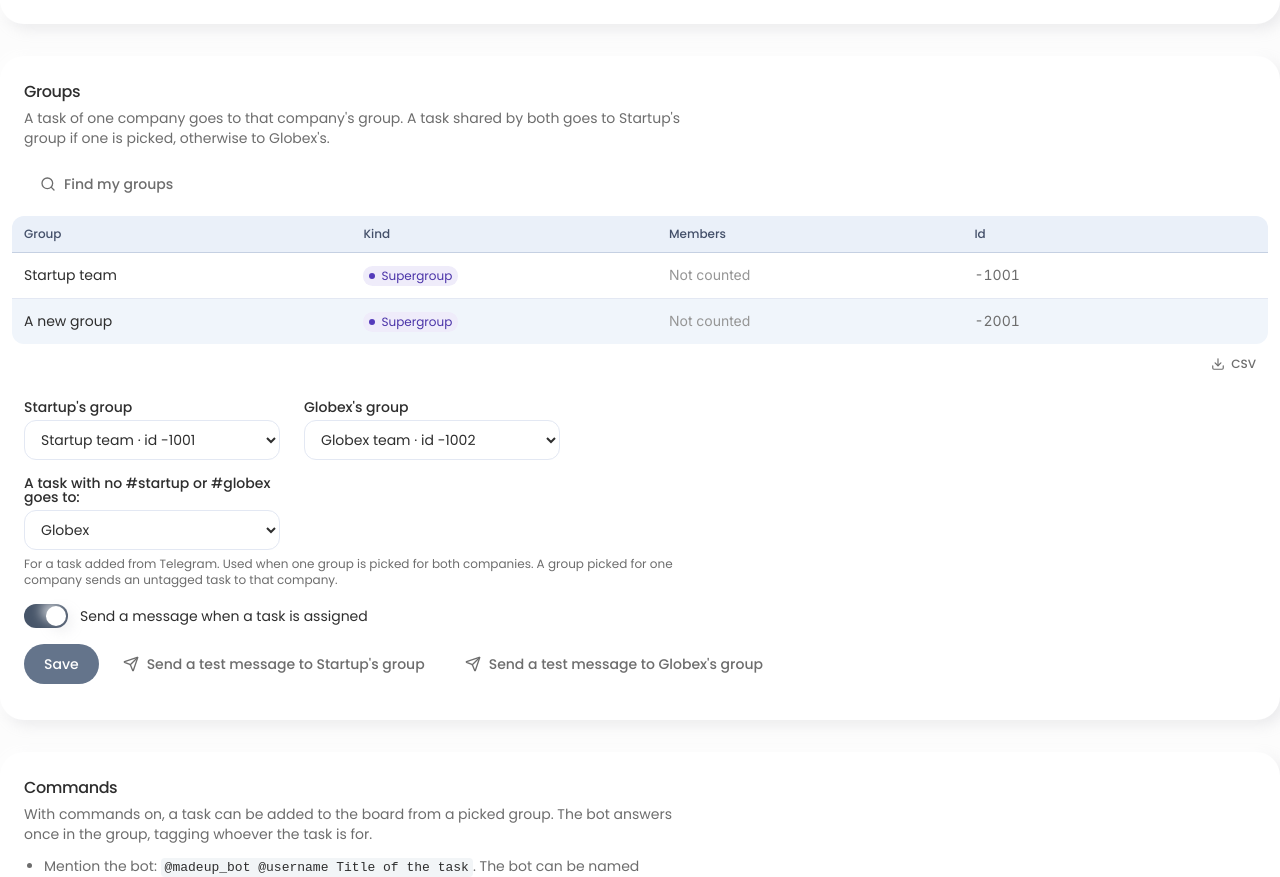
Scenario: the groups › a refused save is shown in the server's words and the choice is kept
(page scrolled)
Select "A new group · id -2001" in the dropdown labelled "Startup's group": (152, 440) [24, 420, 280, 460]
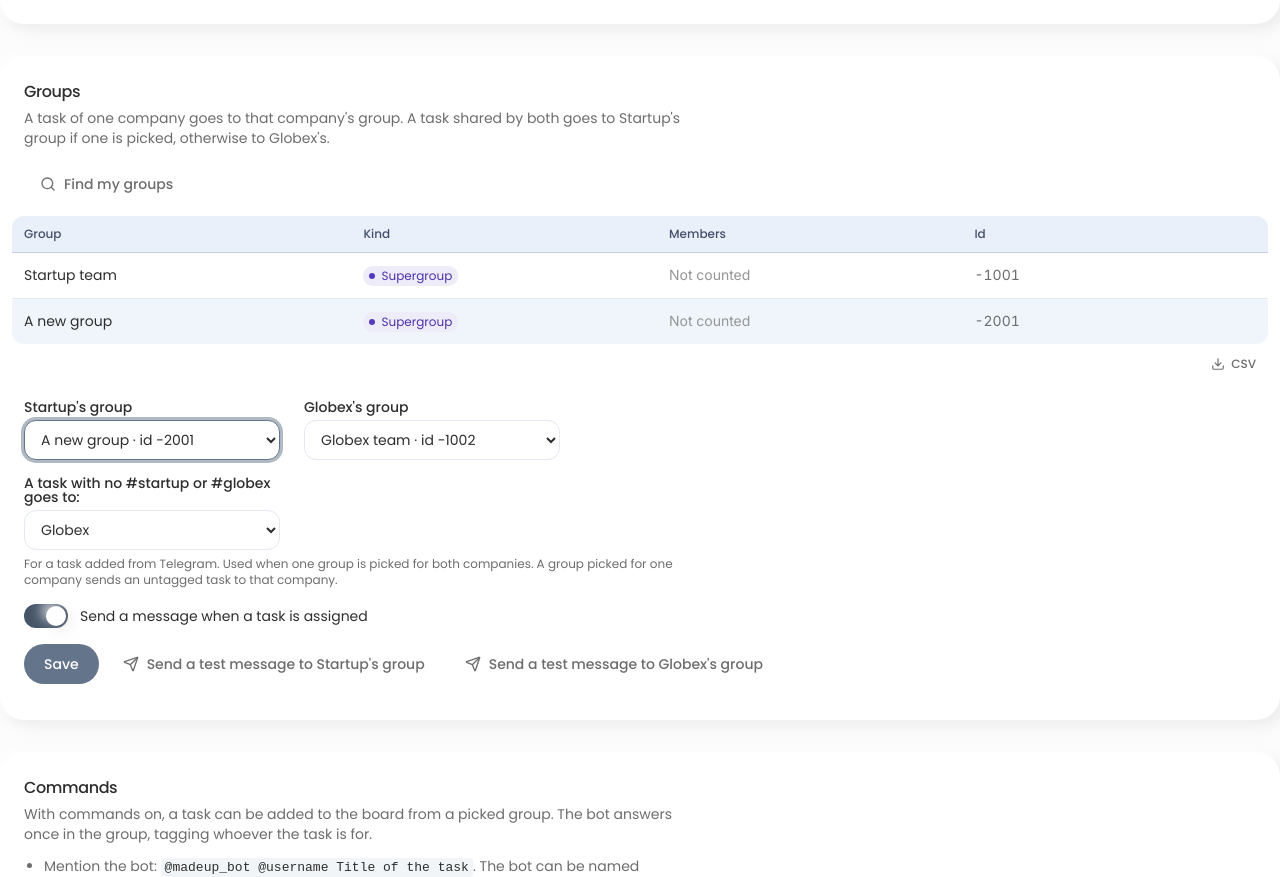
Click the button "Save": (61, 664) [24, 644, 99, 684]
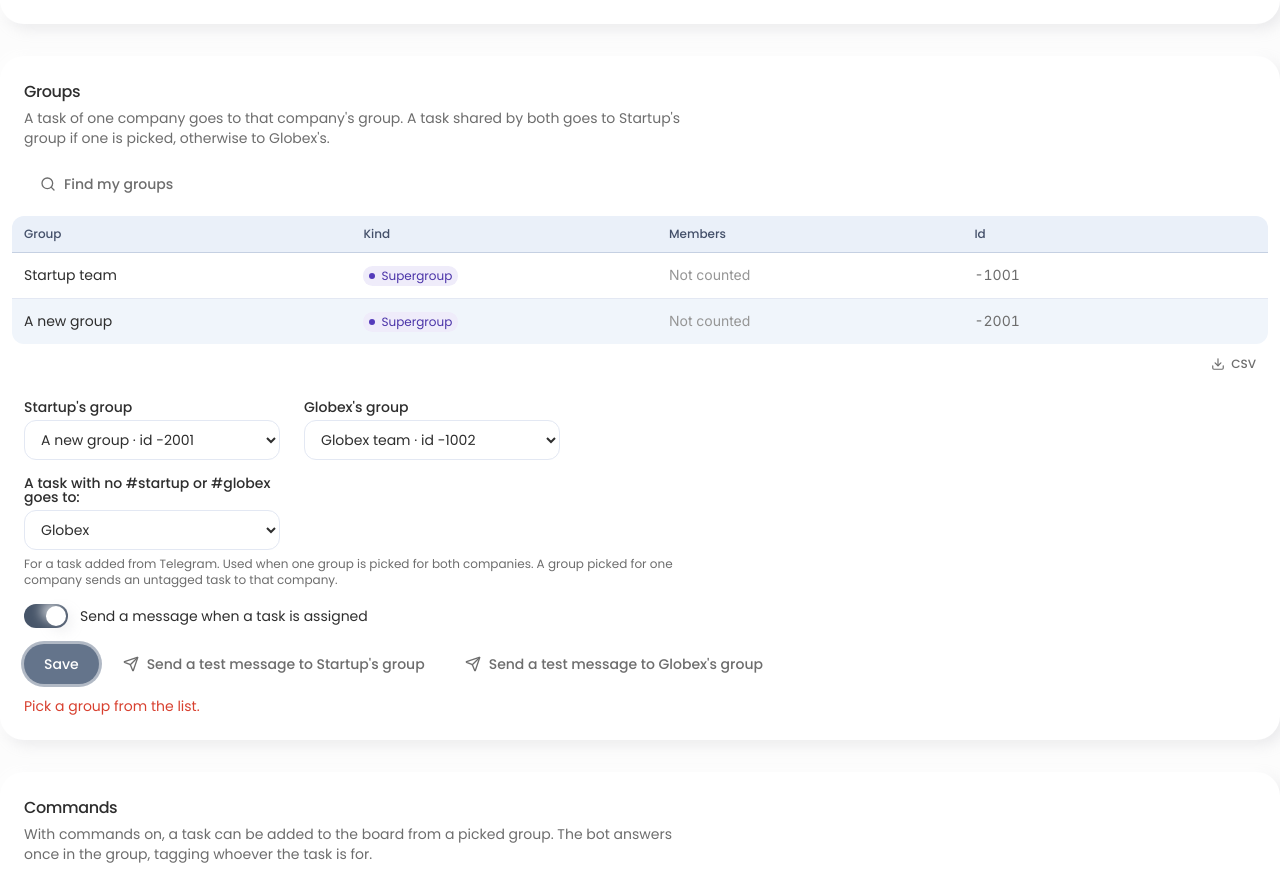
Result: the message reads "Pick a group from the list." at [24, 696, 200, 716]
